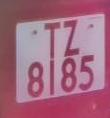1: (45, 57, 60, 100)
5: (77, 51, 98, 97)
8: (22, 56, 49, 102), (58, 55, 79, 98)
T: (41, 18, 64, 64)
Z: (60, 18, 83, 60)
